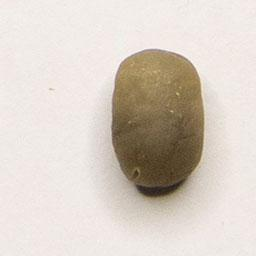peaberry: (108, 45, 209, 193)
